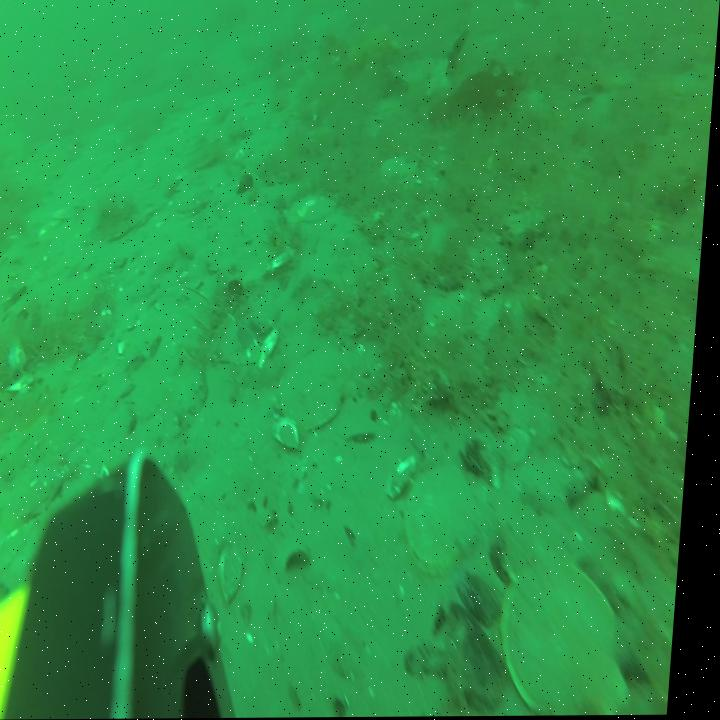scallop: (506, 558, 646, 717), (410, 466, 493, 577), (283, 350, 366, 430), (178, 187, 215, 220), (382, 155, 421, 185), (292, 194, 323, 221), (311, 197, 339, 223)
